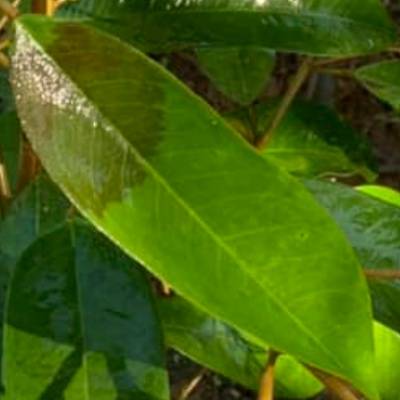Leaf_Rhizoctonia: (3, 2, 400, 400)
